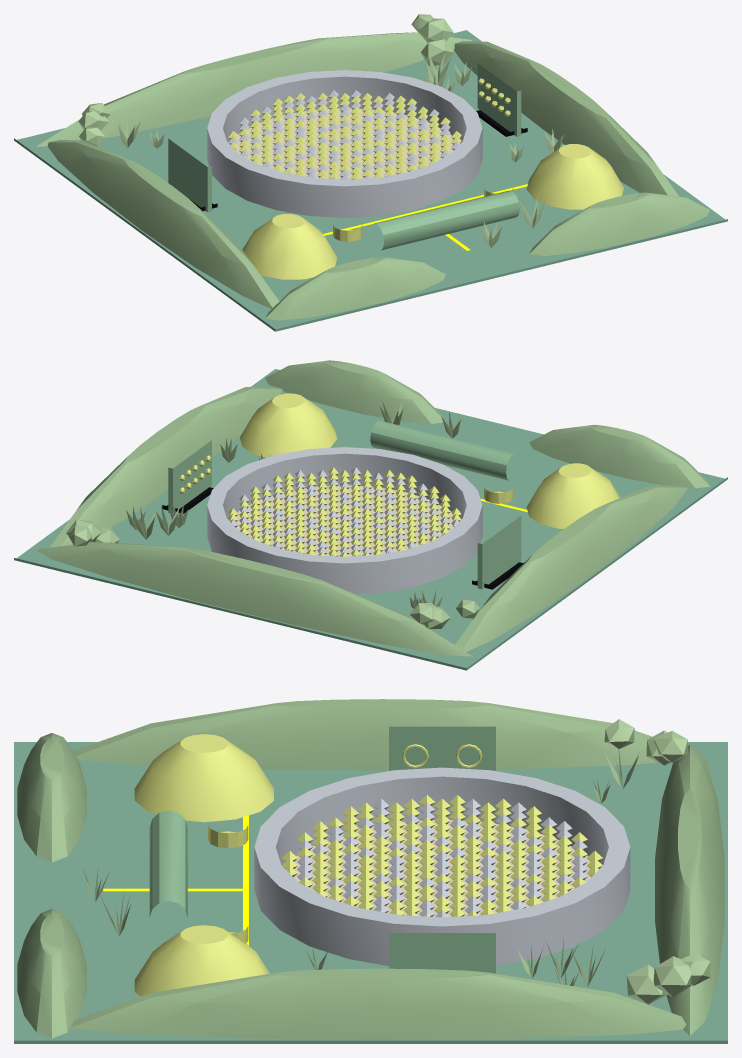
3 renders of one model, top to bottom at view 1: azimuth 30°, elevation 25°; view 2: azimuth 150°, elevation 25°; view 3: azimuth 270°, elevation 25°, orthographic. The views are drawn at different scales.
Visible parts, largest first — view 1: Terrain, Safety_Pad, Pit_Rim, Ball_Mounds, Pit_Balls_Ball, Pit_Balls_White, Foam_Rollers, Pit_Bed, Sensory_Panels, Foliage, Grass_Tufts, Court_Line; view 2: Terrain, Safety_Pad, Pit_Rim, Pit_Balls_Ball, Ball_Mounds, Pit_Balls_White, Pit_Bed, Foam_Rollers, Sensory_Panels, Foliage, Grass_Tufts, Panel_Feet; view 3: Terrain, Safety_Pad, Pit_Rim, Pit_Balls_Ball, Ball_Mounds, Pit_Balls_White, Sensory_Panels, Pit_Bed, Foliage, Foam_Rollers, Grass_Tufts, Court_Line (+1 smaller).
Boxes of the visible parts, <box> form: Terrain: <box>36,32,709,320</box>; Safety_Pad: <box>14,30,727,331</box>; Pit_Rim: <box>207,70,482,217</box>; Ball_Mounds: <box>242,144,623,279</box>; Pit_Balls_Ball: <box>228,93,461,179</box>; Pit_Balls_White: <box>228,90,459,179</box>; Foam_Rollers: <box>374,190,519,250</box>; Pit_Bed: <box>235,108,453,179</box>; Sensory_Panels: <box>168,63,521,212</box>; Foliage: <box>78,14,453,145</box>; Grass_Tufts: <box>118,53,563,247</box>; Court_Line: <box>323,184,527,250</box>; Terrain: <box>36,360,709,656</box>; Safety_Pad: <box>14,369,727,670</box>; Pit_Rim: <box>207,447,482,594</box>; Pit_Balls_Ball: <box>228,467,461,556</box>; Ball_Mounds: <box>240,393,620,528</box>; Pit_Balls_White: <box>230,467,458,554</box>; Pit_Bed: <box>236,485,453,556</box>; Foam_Rollers: <box>370,421,515,480</box>; Sensory_Panels: <box>168,440,521,589</box>; Foliage: <box>66,519,479,629</box>; Grass_Tufts: <box>126,401,462,608</box>; Panel_Feet: <box>162,487,524,589</box>; Terrain: <box>17,699,724,1039</box>; Safety_Pad: <box>14,742,727,1043</box>; Pit_Rim: <box>254,767,630,965</box>; Pit_Balls_Ball: <box>282,795,602,916</box>; Ball_Mounds: <box>134,734,273,996</box>; Pit_Balls_White: <box>297,798,587,917</box>; Sensory_Panels: <box>389,726,495,973</box>; Pit_Bed: <box>293,820,590,916</box>; Foliage: <box>604,719,710,1004</box>; Foam_Rollers: <box>149,810,187,917</box>; Grass_Tufts: <box>83,746,639,986</box>; Court_Line: <box>103,815,248,945</box>.
Size of what is drawn, in the model's own units: 6 by 0.6 by 6.
9 materials, 2 textured.
